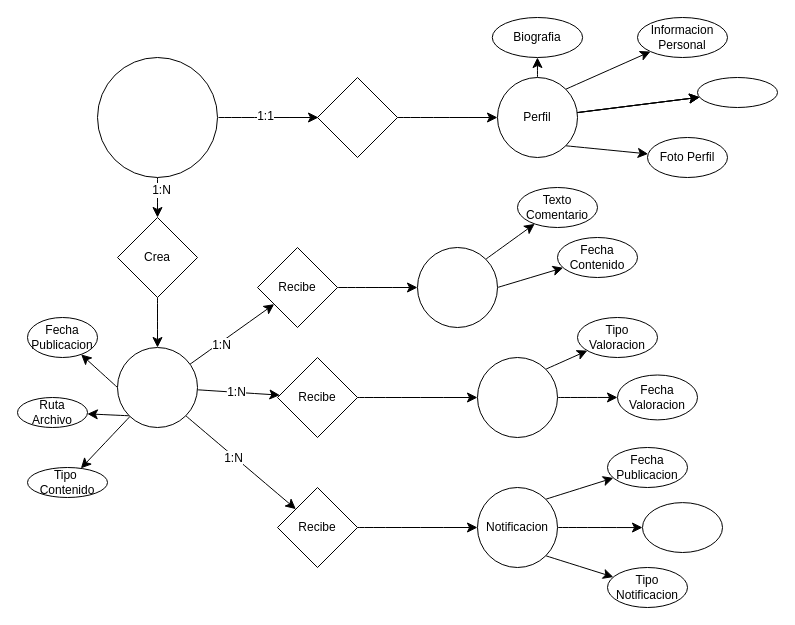
This 795x625 diagram has some shape labels left out. The shapes that lost their labels are listed below. From the top down, each one's centre as x and y in pixels, then its label:
point (737, 92): Interes
point (157, 117): Usuario
point (357, 117): Tiene
point (457, 287): Comentario
point (157, 387): Publicacion
point (517, 397): Valoracion
point (682, 527): Fecha Notificacion
